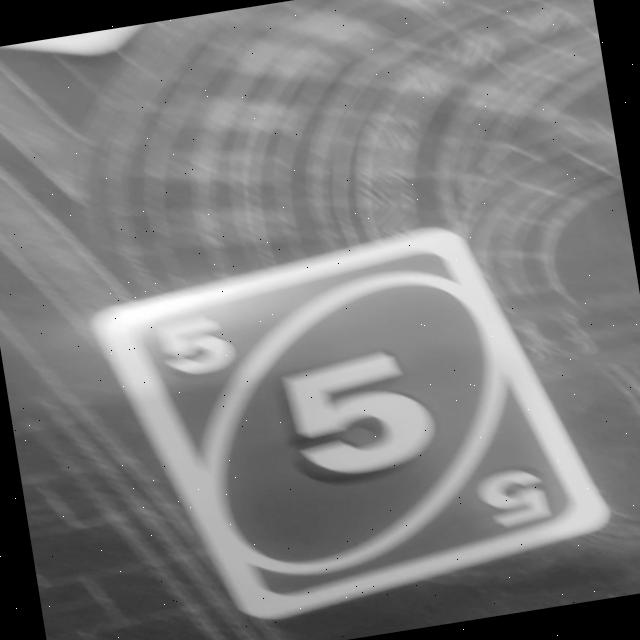card_5: (82, 205, 620, 640)
